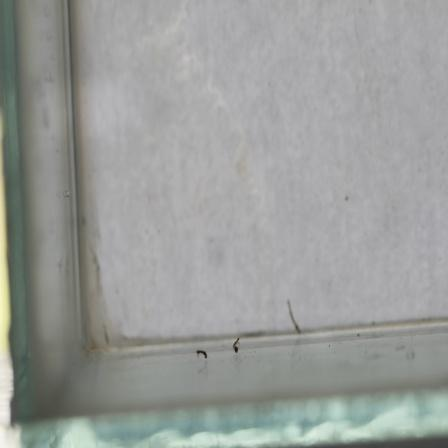Jentik-Nyamuk: (232, 337, 243, 355), (195, 348, 208, 361)
